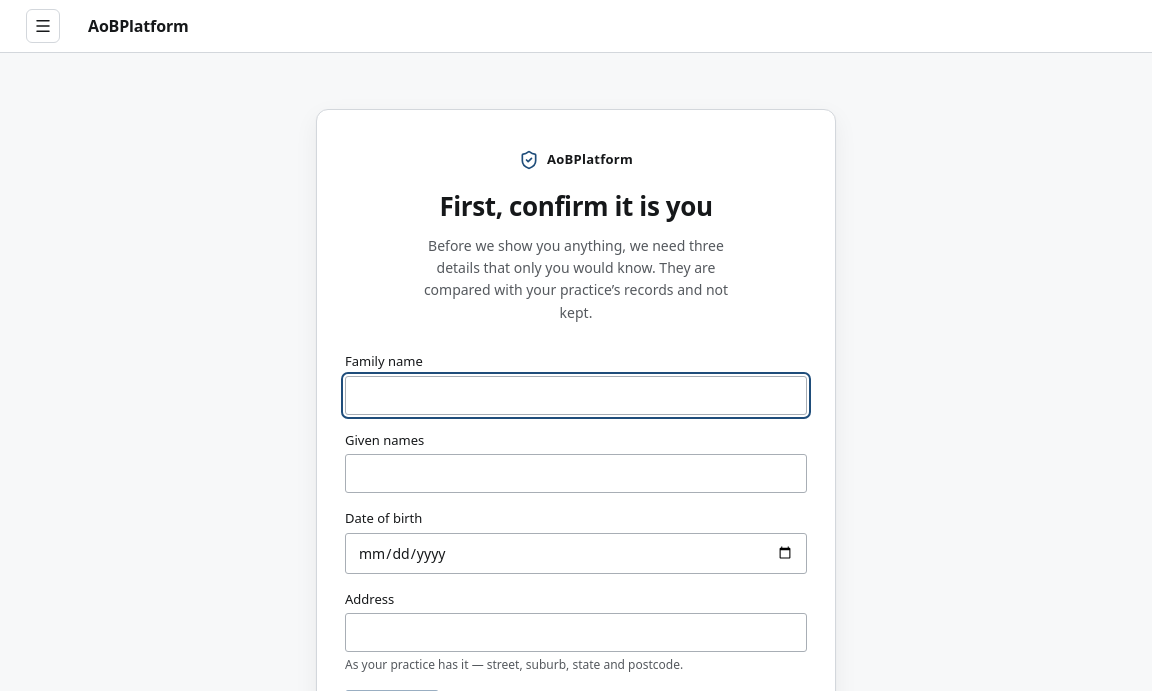
signature_screen_names_the_assignor_and_relationship_when_not_the_patient › renders a relationship key through the string table
Type "Fictional" into the field with test id "agree-family" at (576,395), box [345,376,807,415]
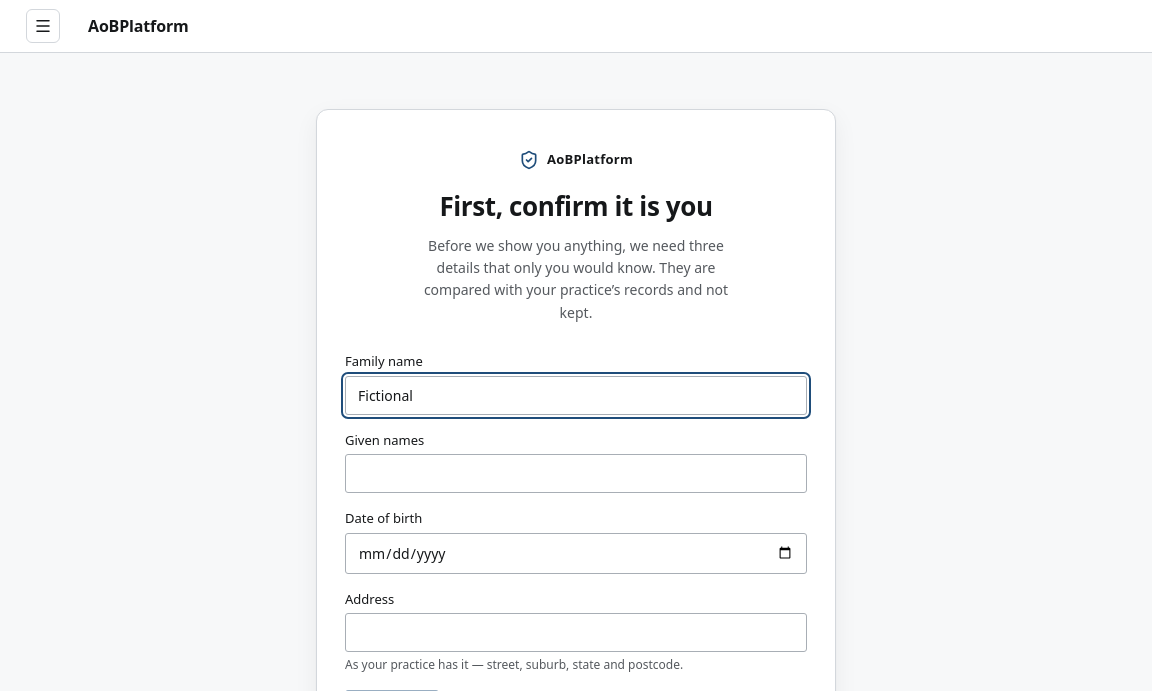
Type "Alex" into the field with test id "agree-given" at (576,474), box [345,454,807,493]
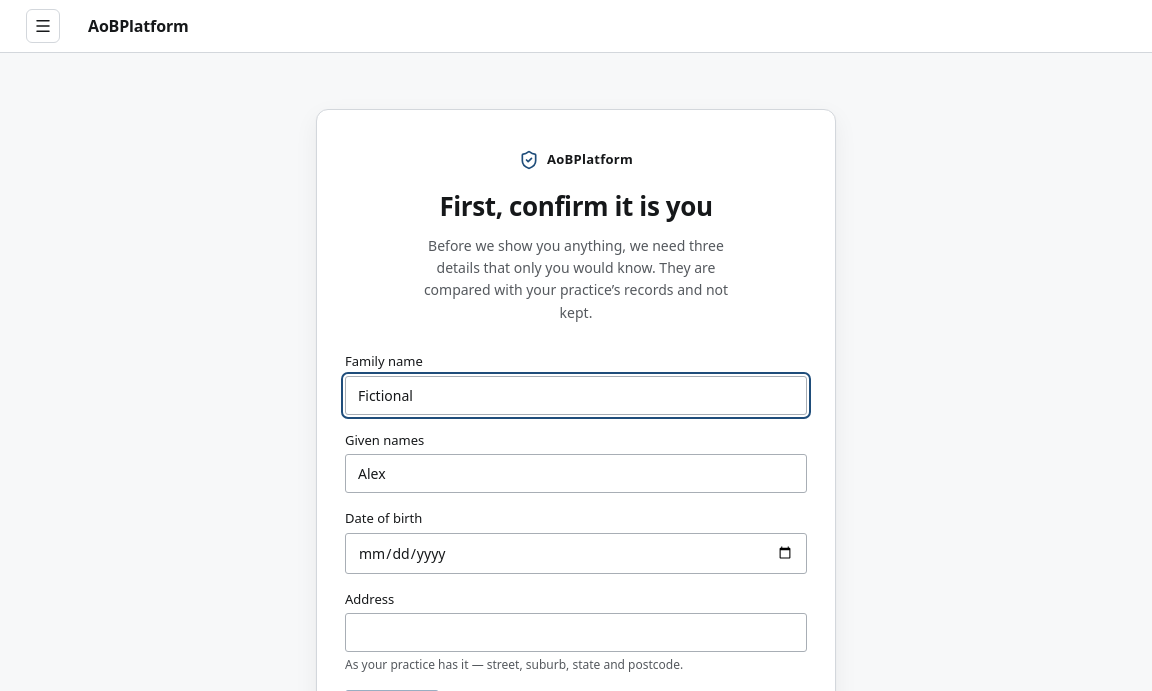
Type "1988-03-09" into the date field with test id "agree-dob" at (576,553), box [345,533,807,574]
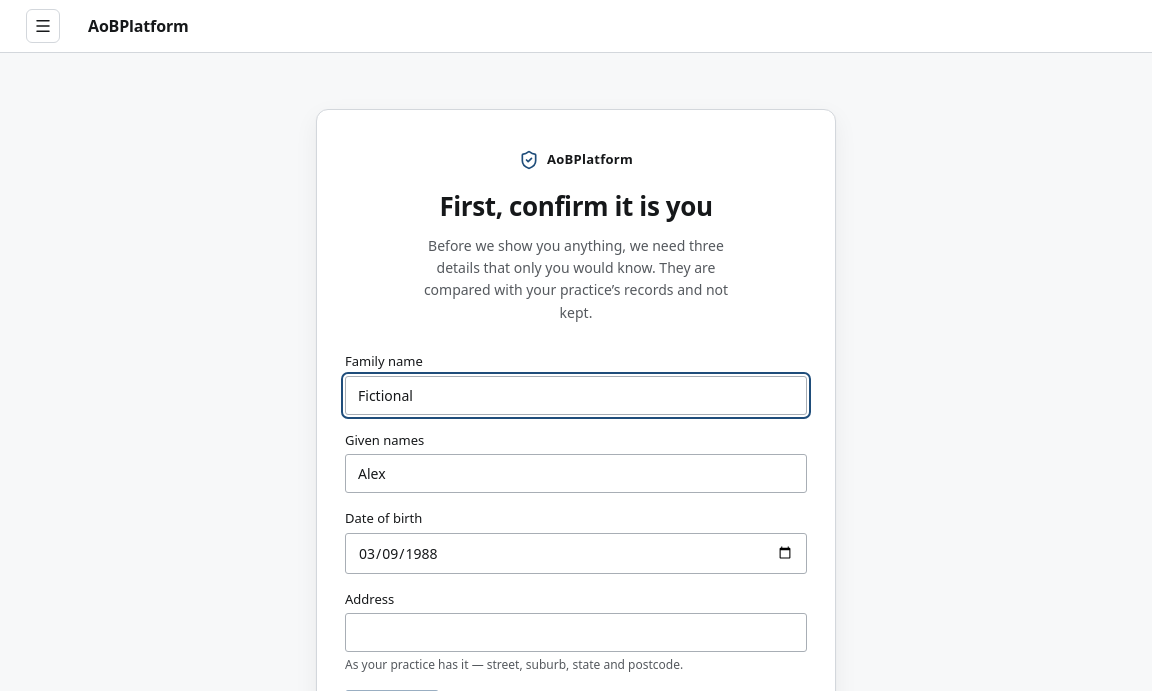
Type "7 Sample Road, Sampletown NSW 2000" into the field with test id "agree-address" at (576,633), box [345,613,807,652]
(page scrolled)
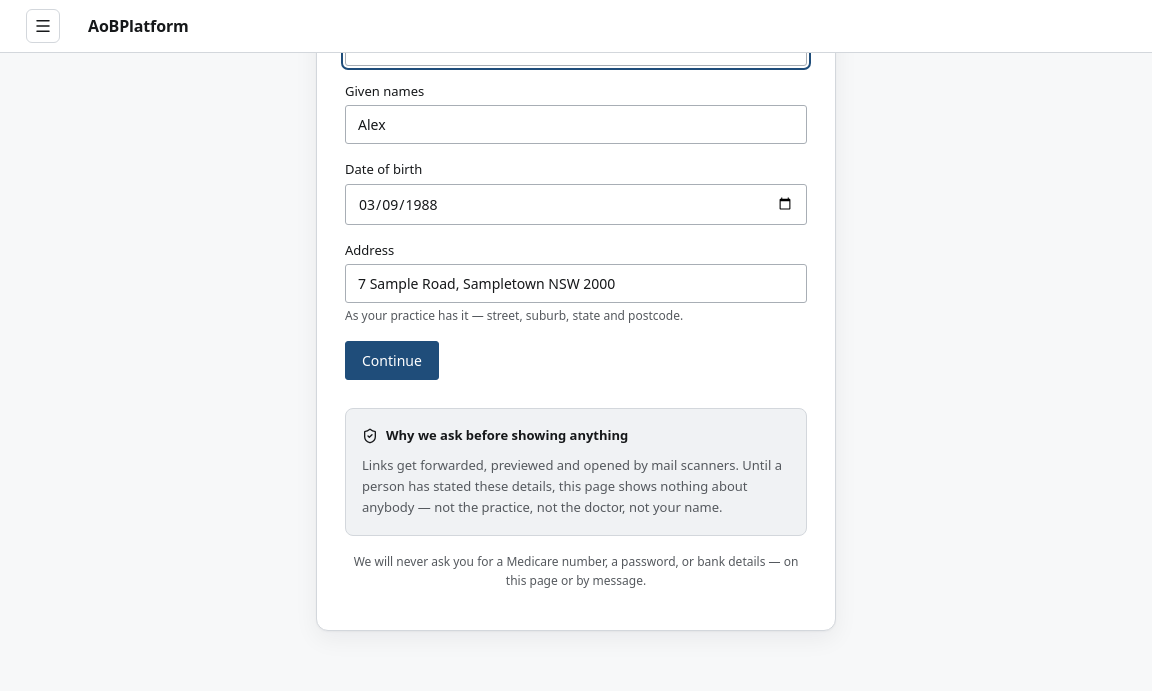
Click the button with test id "agree-verify" at (392,361), box [345,341,439,380]
(page scrolled)
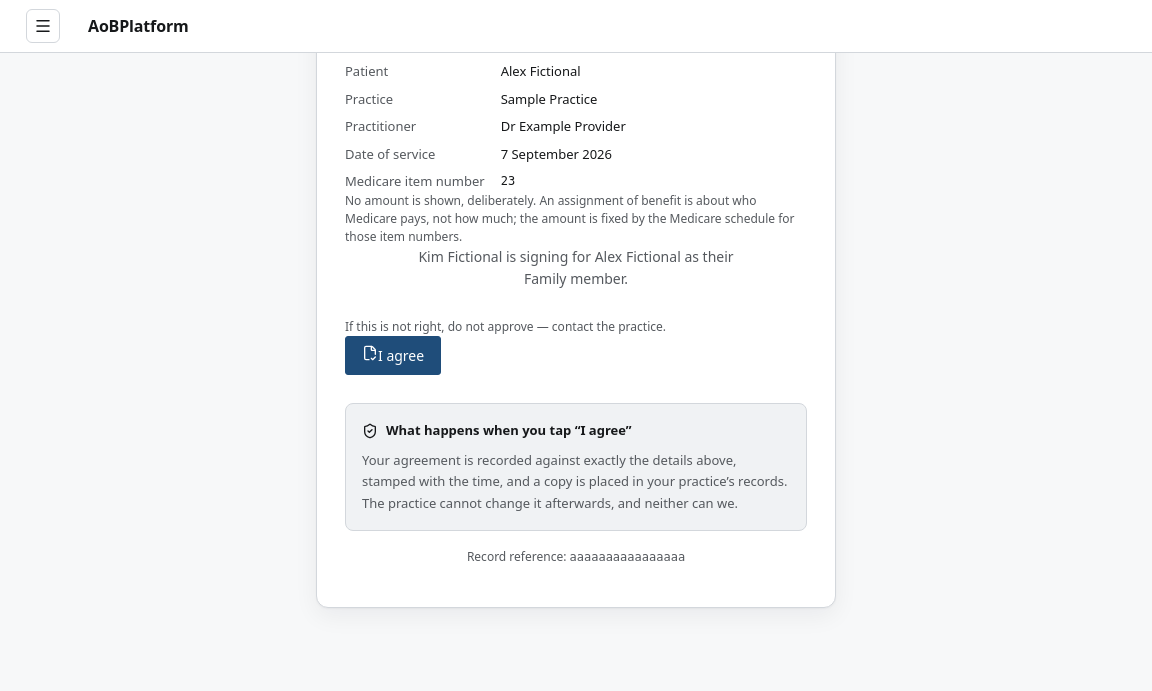
Expected: the element with test id "agree-particulars" is shown, [345,62,626,190]
Expected: the text with test id "agree-who" shows "Family member", [418,247,734,288]
